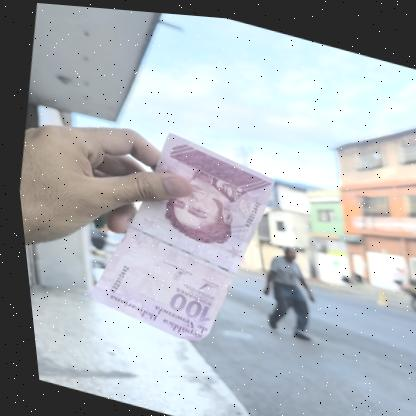one_hundred-front-vef: (62, 109, 291, 357)
